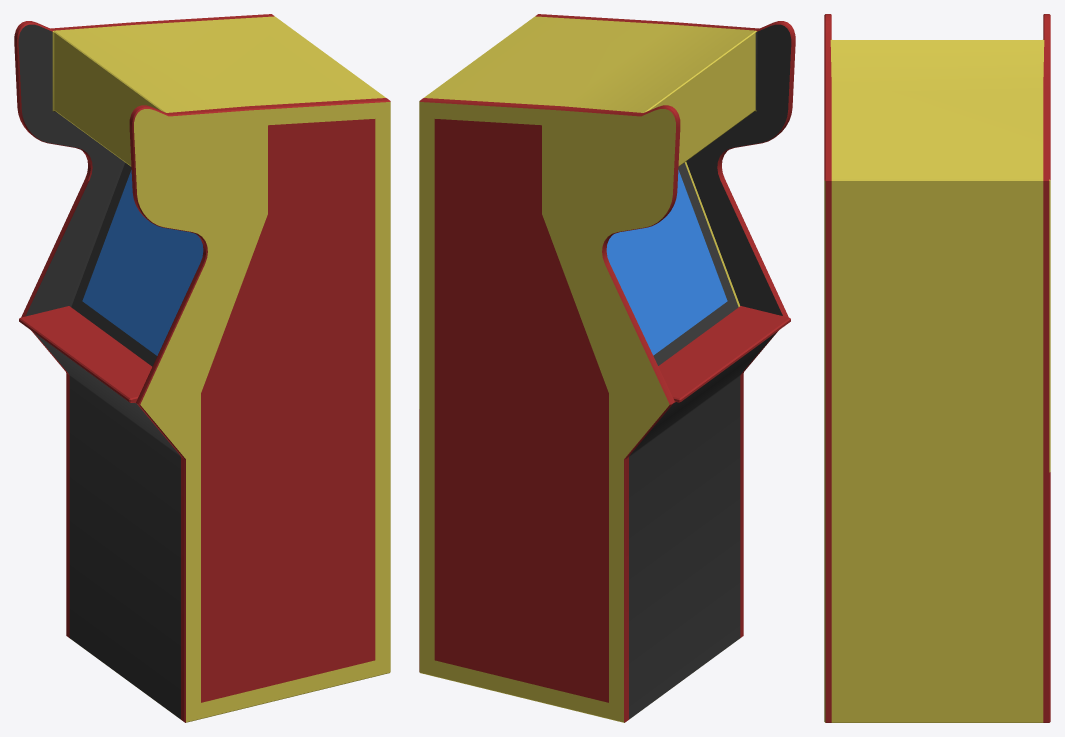
The model's file is Arcade.fbx.
3 renders of one model, left to right at view 1: azimuth 30°, elevation 25°; view 2: azimuth 150°, elevation 25°; view 3: azimuth 270°, elevation 25°, orthographic. The views are drawn at different scales.
Visible parts, largest first — view 1: Cube.003; view 2: Cube.003; view 3: Cube.003.
Boxes of the visible parts, left/top/right/bottom form: Cube.003: left=14, top=14, right=390, bottom=722; Cube.003: left=419, top=14, right=795, bottom=722; Cube.003: left=824, top=14, right=1050, bottom=722.
Bounding box in the file's own units: 250 × 579 × 200.
